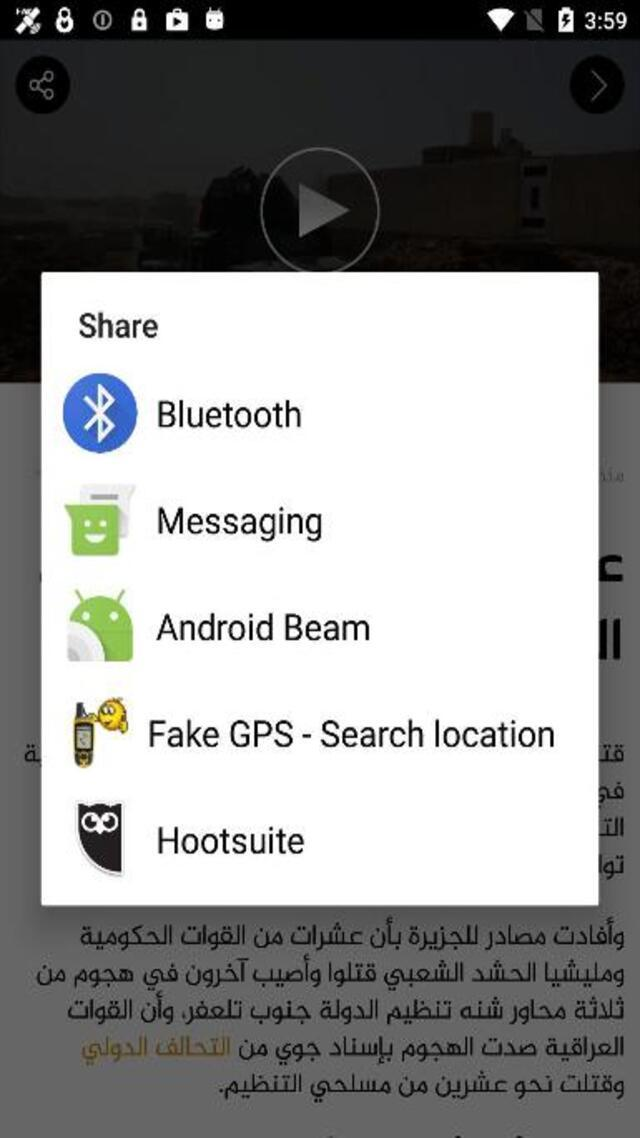Icon: (261, 146, 377, 270), (62, 372, 137, 453), (63, 482, 136, 556), (66, 583, 132, 662), (71, 696, 128, 769), (74, 800, 125, 876), (14, 55, 72, 116), (570, 56, 624, 115)
Text: (150, 720, 556, 750), (156, 612, 369, 642), (157, 504, 322, 542), (158, 400, 301, 430), (158, 827, 304, 855), (78, 312, 158, 339)
